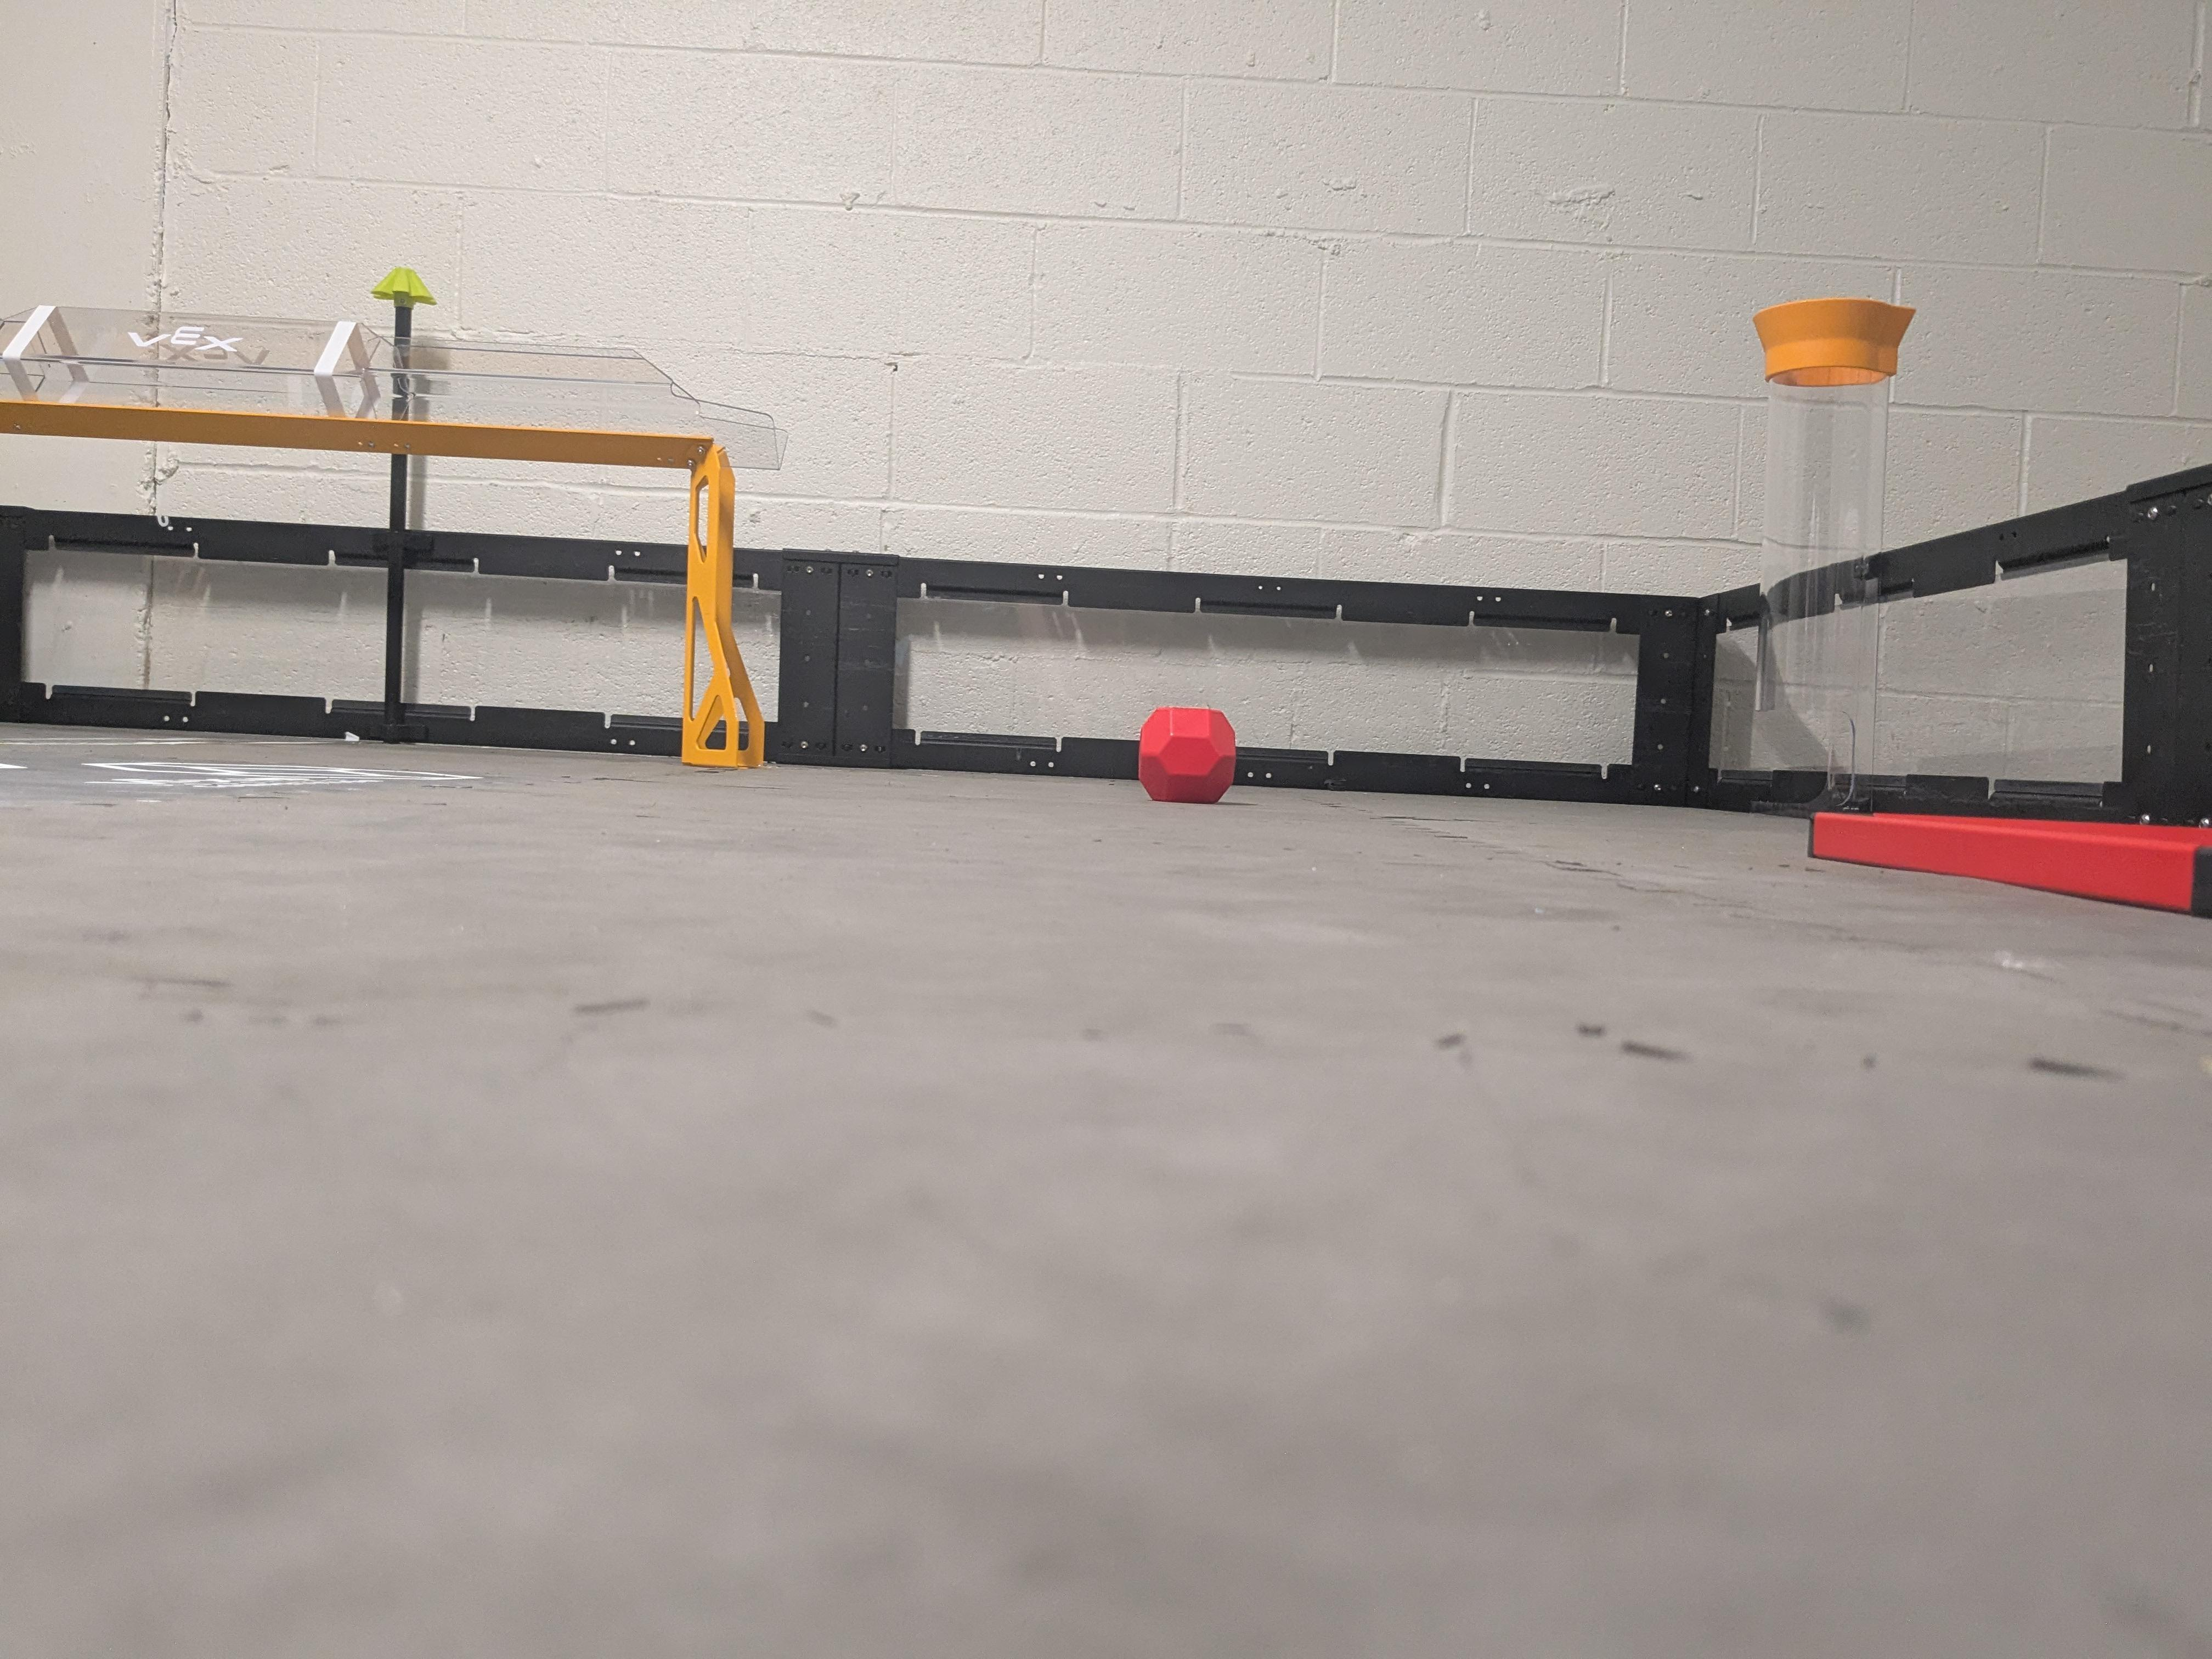Vex-Pieces-RED: (1139, 708, 1235, 803)
